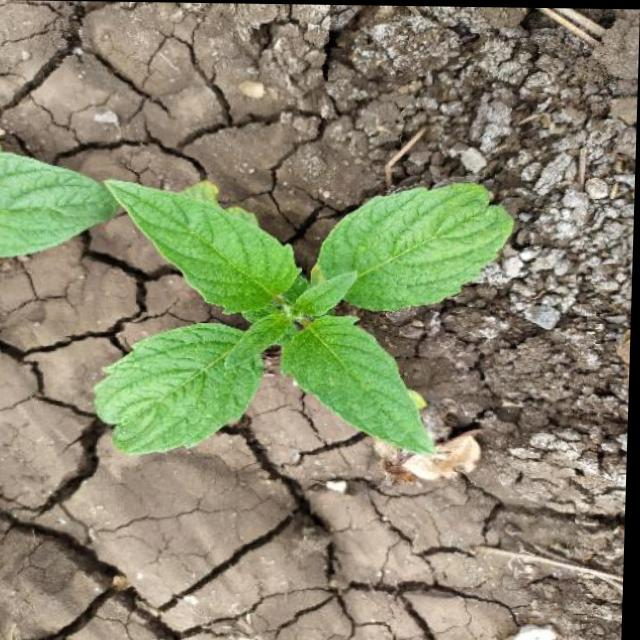crop: (91, 149, 525, 490)
